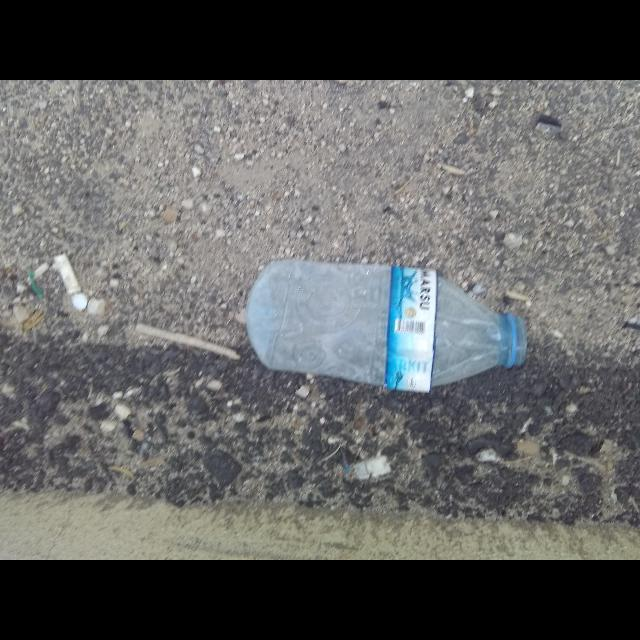Plastic: (245, 260, 527, 390)
